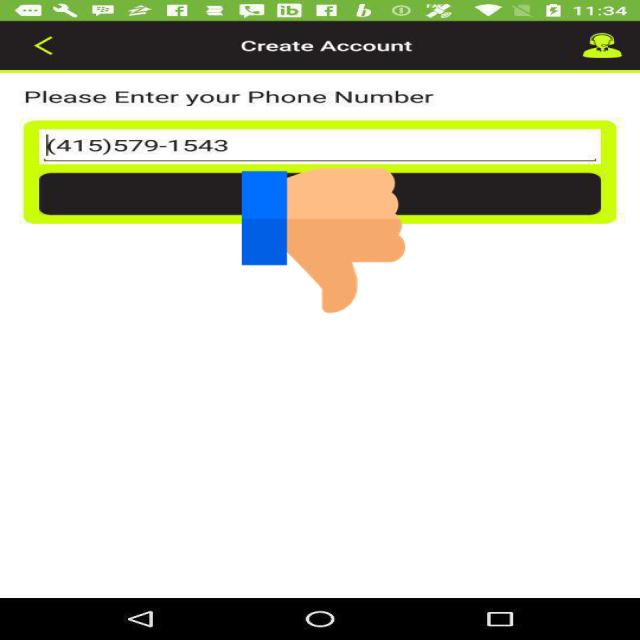obstruction: (242, 165, 405, 316)
